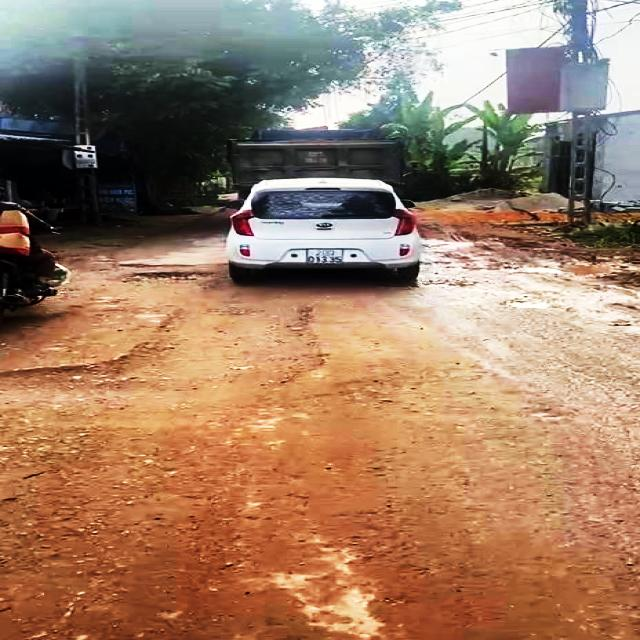pothole: (0, 338, 330, 390), (121, 270, 221, 285), (501, 300, 557, 311)
